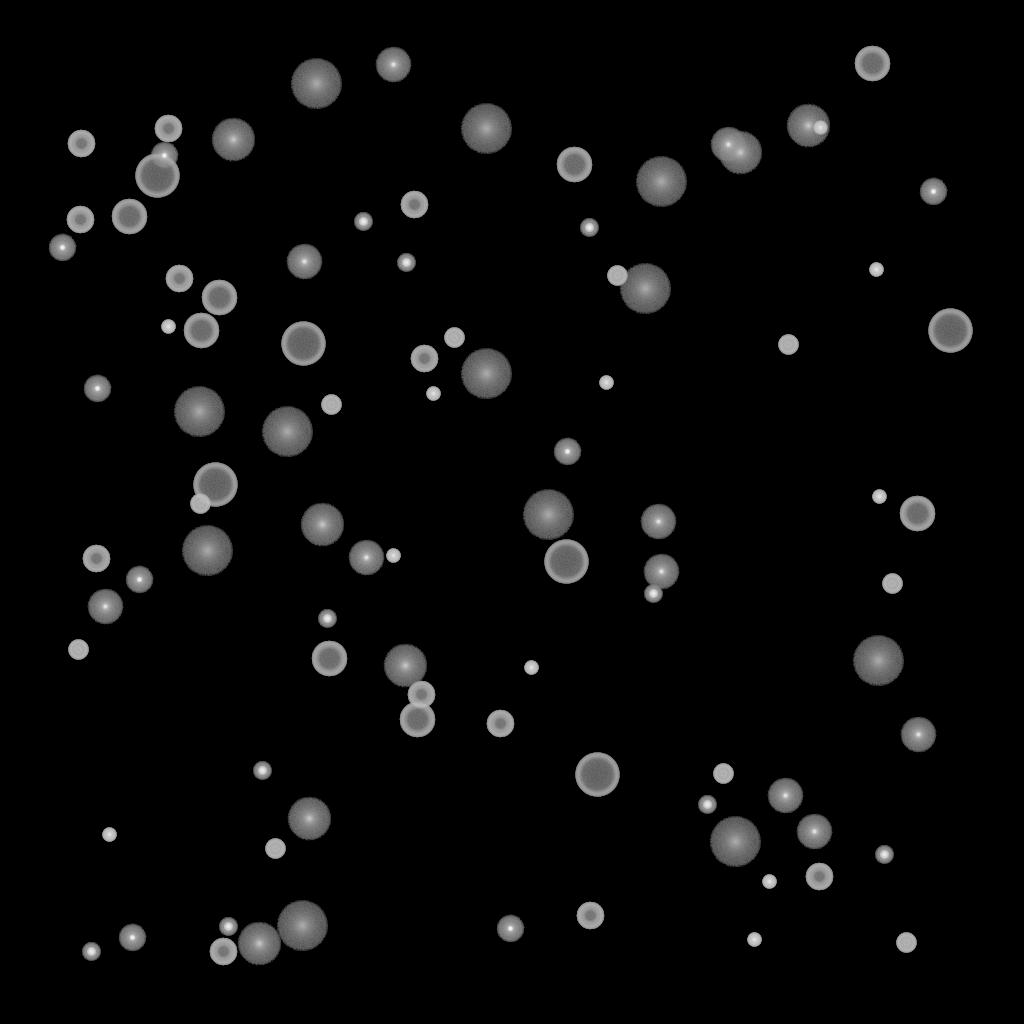depth:-10: (150, 142, 178, 170), (125, 566, 153, 594), (496, 915, 524, 943), (118, 924, 146, 952), (919, 178, 947, 206), (83, 375, 111, 403), (553, 438, 581, 466), (48, 234, 76, 262)
depth:-20: (875, 846, 893, 864), (219, 918, 237, 936), (644, 585, 662, 603), (354, 213, 372, 231), (82, 943, 100, 961), (253, 762, 271, 780), (698, 796, 716, 814), (580, 219, 598, 237), (318, 610, 336, 628), (397, 254, 415, 272)
depth:-30: (102, 828, 116, 842), (386, 549, 400, 563), (161, 320, 175, 334), (813, 121, 827, 135), (869, 263, 883, 277), (872, 490, 886, 504), (762, 875, 776, 889), (426, 387, 440, 401), (599, 376, 613, 390), (524, 661, 538, 675), (747, 933, 761, 947)
depth:-40: (882, 574, 902, 594), (265, 839, 285, 859), (444, 328, 464, 348), (713, 764, 733, 784), (68, 640, 88, 660), (321, 395, 341, 415), (778, 335, 798, 355), (190, 494, 210, 514), (607, 266, 627, 286), (896, 933, 916, 953)
depth:-50: (165, 265, 193, 293), (67, 130, 95, 158), (154, 115, 182, 143), (576, 902, 604, 930), (209, 938, 237, 966), (805, 863, 833, 891), (410, 345, 438, 373), (400, 191, 428, 219), (66, 206, 94, 234), (407, 681, 435, 709), (82, 545, 110, 573), (486, 710, 514, 738)
depth:-60: (556, 147, 592, 183), (201, 280, 237, 316), (854, 46, 890, 82), (311, 641, 347, 677), (111, 199, 147, 235), (399, 702, 435, 738), (183, 313, 219, 349), (899, 496, 935, 532)
depth:-70: (281, 322, 325, 366), (193, 463, 237, 507), (928, 309, 972, 353), (575, 753, 619, 797), (135, 154, 179, 198), (544, 540, 588, 584)
depth:0: (286, 244, 322, 280), (643, 554, 679, 590), (375, 47, 411, 83), (796, 814, 832, 850), (767, 778, 803, 814), (348, 540, 384, 576), (640, 504, 676, 540), (710, 127, 746, 163), (900, 717, 936, 753), (87, 589, 123, 625)
depth:10: (287, 797, 331, 841), (237, 922, 281, 966), (383, 644, 427, 688), (718, 131, 762, 175), (300, 503, 344, 547), (786, 104, 830, 148), (211, 118, 255, 162)
depth:20: (261, 407, 313, 457), (290, 59, 342, 109), (709, 817, 761, 867), (181, 526, 233, 576), (619, 264, 671, 314), (460, 104, 512, 154), (460, 349, 512, 399), (173, 387, 225, 437), (276, 901, 328, 951), (635, 157, 687, 207), (522, 490, 574, 540), (852, 636, 904, 686)
